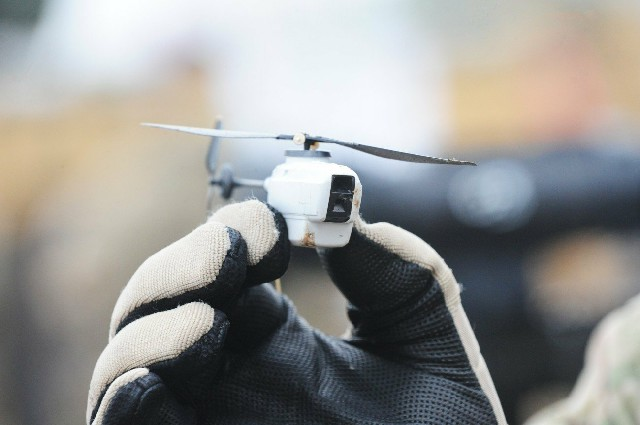maybay_khongnguoilai: (139, 104, 471, 266)
